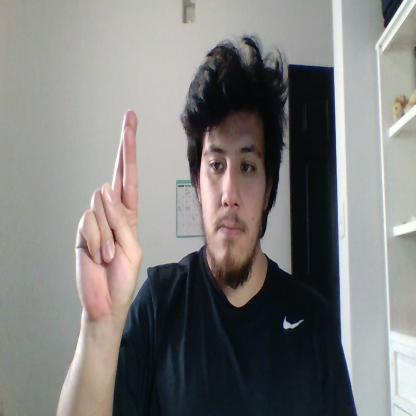R: (76, 109, 142, 316)
